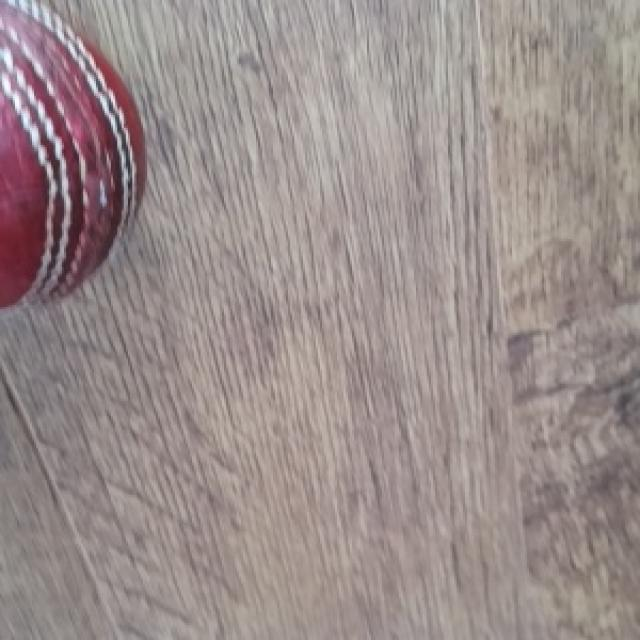ball: (0, 2, 141, 314)
